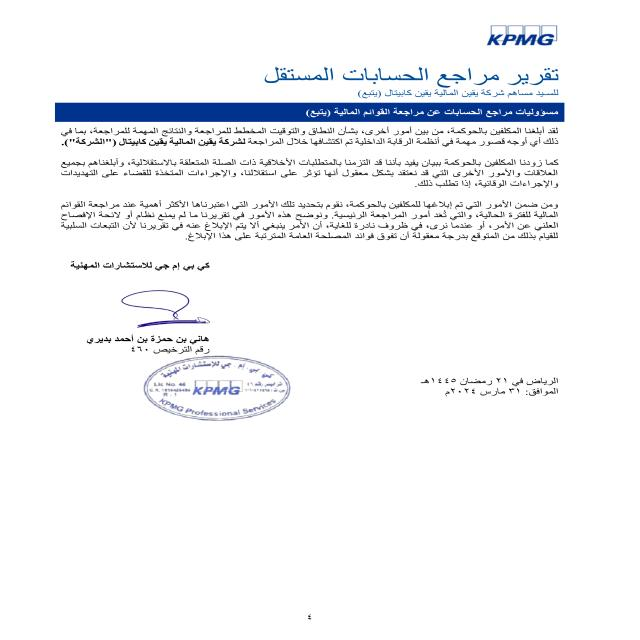auditor_report: (243, 67, 562, 92), (284, 104, 582, 124)
